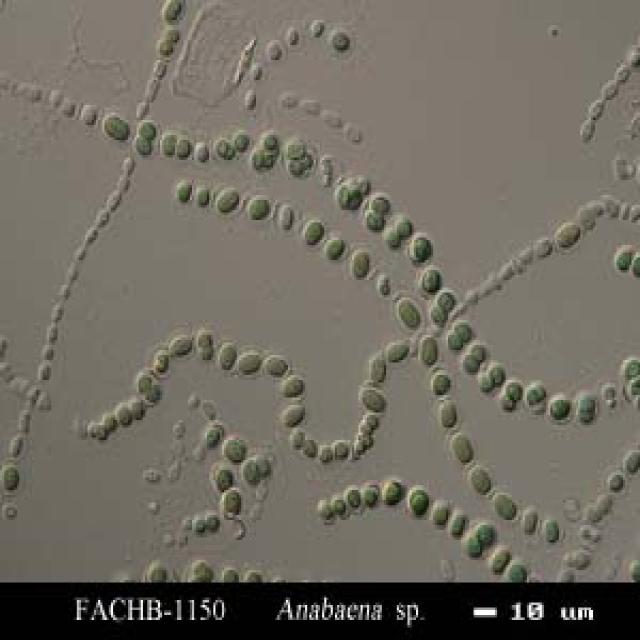Blue Green Algae: (100, 108, 128, 142), (397, 295, 422, 333), (467, 465, 493, 500), (448, 430, 476, 462), (491, 490, 518, 522), (278, 370, 308, 398), (405, 488, 433, 518), (222, 432, 249, 462), (348, 245, 373, 277), (243, 192, 271, 220), (216, 185, 241, 215), (331, 25, 352, 60), (418, 335, 440, 367), (555, 222, 582, 248), (167, 332, 194, 358), (198, 422, 224, 448), (280, 400, 307, 425), (437, 400, 461, 428), (384, 338, 412, 362), (301, 217, 324, 245), (542, 515, 563, 545), (429, 370, 454, 395), (262, 352, 286, 378), (422, 265, 444, 293), (414, 230, 433, 262), (361, 388, 386, 412), (520, 505, 540, 535), (614, 242, 634, 272), (433, 288, 457, 312), (486, 548, 510, 572), (158, 130, 177, 158), (448, 510, 467, 538), (452, 318, 474, 342), (237, 350, 260, 372), (158, 2, 183, 22), (324, 235, 346, 257), (369, 195, 393, 215), (218, 342, 235, 370), (363, 210, 384, 232), (369, 358, 390, 380), (267, 38, 286, 62), (134, 130, 152, 155), (550, 395, 568, 420), (134, 120, 156, 140), (79, 100, 96, 125), (243, 85, 258, 113), (286, 428, 305, 450), (194, 138, 211, 162), (154, 35, 172, 57), (196, 185, 214, 207), (286, 138, 305, 158), (175, 180, 192, 202), (333, 183, 350, 205), (429, 305, 446, 327), (395, 217, 414, 235), (128, 398, 145, 418), (145, 75, 160, 97), (260, 132, 278, 150), (136, 372, 154, 390), (310, 18, 324, 40), (446, 332, 463, 350), (145, 387, 162, 405), (288, 155, 303, 175), (303, 438, 318, 458), (232, 132, 248, 150), (472, 345, 488, 363), (478, 373, 491, 395), (115, 400, 128, 422), (461, 355, 476, 373), (177, 138, 190, 158), (491, 362, 504, 382), (508, 380, 520, 400), (335, 440, 348, 458), (252, 60, 262, 80)
